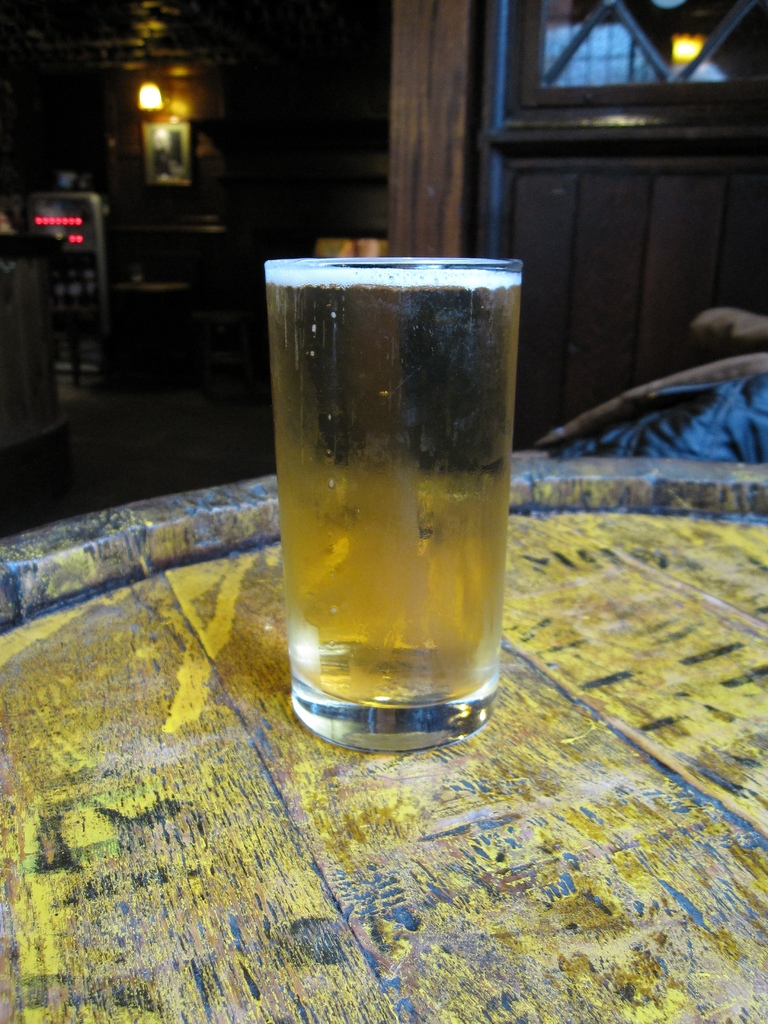Beer: (264, 268, 520, 712)
